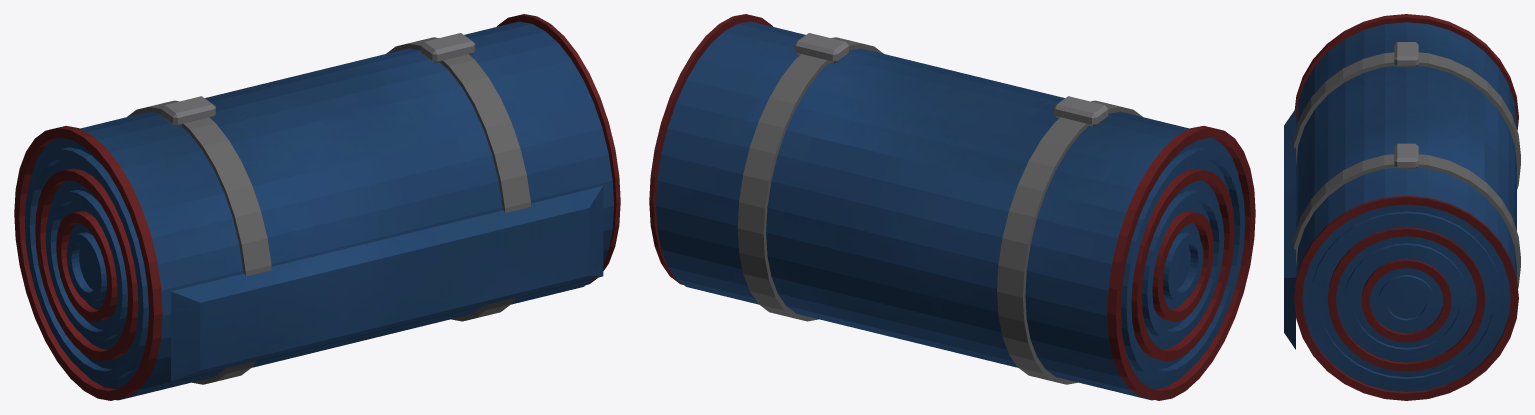
The model's file is saco_dormir.glb.
3 renders of one model, left to right at view 1: azimuth 30°, elevation 25°; view 2: azimuth 150°, elevation 25°; view 3: azimuth 270°, elevation 25°, orthographic. The views are drawn at different scales.
Parts seen in each view (by area): view 1: saco_dormir_nylon, saco_dormir_forro, saco_dormir_fita_preta, saco_dormir_plastico_preto; view 2: saco_dormir_nylon, saco_dormir_forro, saco_dormir_fita_preta, saco_dormir_plastico_preto; view 3: saco_dormir_nylon, saco_dormir_forro, saco_dormir_fita_preta, saco_dormir_plastico_preto.
Part boxes in pixels (left/top/right/bottom): saco_dormir_nylon: left=24, top=21, right=613, bottom=400; saco_dormir_forro: left=14, top=14, right=620, bottom=400; saco_dormir_fita_preta: left=127, top=37, right=530, bottom=384; saco_dormir_plastico_preto: left=161, top=33, right=475, bottom=126; saco_dormir_nylon: left=656, top=21, right=1245, bottom=400; saco_dormir_forro: left=649, top=14, right=1255, bottom=400; saco_dormir_fita_preta: left=737, top=37, right=1142, bottom=384; saco_dormir_plastico_preto: left=794, top=33, right=1108, bottom=126; saco_dormir_nylon: left=1284, top=22, right=1516, bottom=391; saco_dormir_forro: left=1294, top=14, right=1518, bottom=400; saco_dormir_fita_preta: left=1294, top=52, right=1520, bottom=288; saco_dormir_plastico_preto: left=1394, top=42, right=1418, bottom=168.
Size of the model in its own units: 0.432 by 0.236 by 0.236.
Materials: 4 (2 with a texture image).
